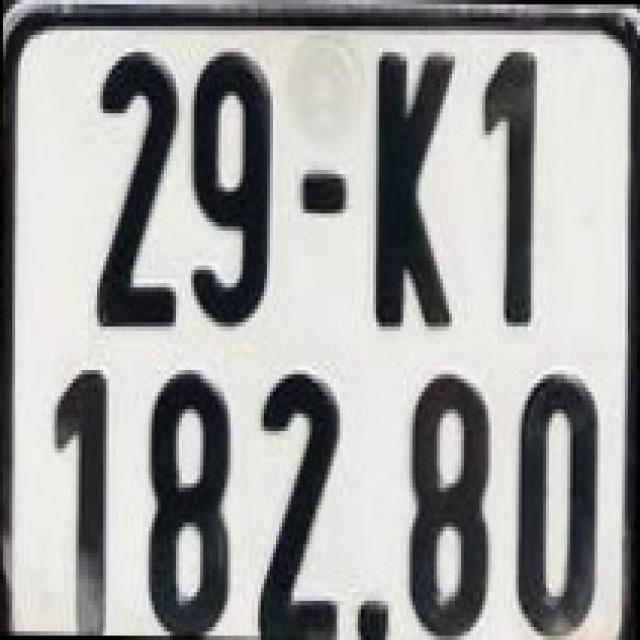0: (512, 366, 604, 636)
1: (476, 44, 549, 335), (48, 362, 122, 632)
2: (85, 44, 185, 335), (252, 361, 349, 640)
8: (140, 357, 236, 636), (404, 361, 494, 636)
9: (185, 43, 279, 331)
K: (367, 34, 461, 340)
